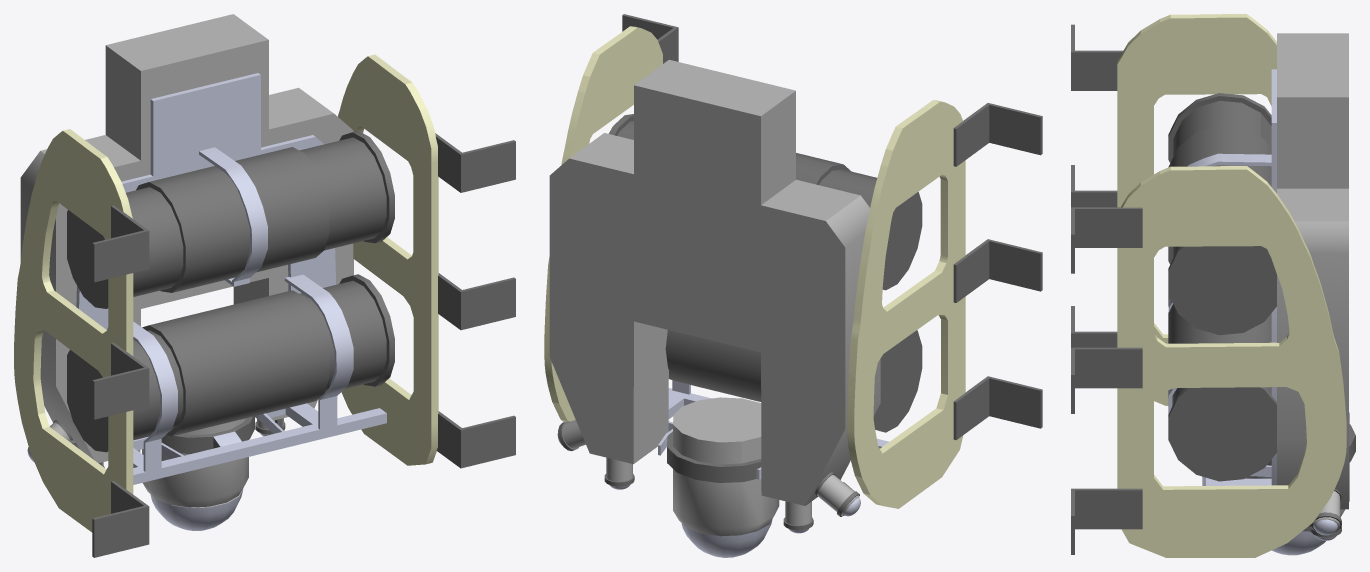
Rendered from BodyMaya.obj.
3 views of the same model, side by side, from view 1: azimuth 30°, elevation 25°; view 2: azimuth 150°, elevation 25°; view 3: azimuth 270°, elevation 25° (orthographic). The views are drawn at different scales.
Visible parts, largest first — view 1: Body:Mesh; view 2: Body:Mesh; view 3: Body:Mesh.
Boxes of the visible parts, left/top/right/bottom form: Body:Mesh: left=14, top=14, right=515, bottom=557; Body:Mesh: left=544, top=14, right=1042, bottom=557; Body:Mesh: left=1071, top=14, right=1355, bottom=557.
Size of the model in its own units: 3.6 by 3.88 by 2.06.
1 material, 1 textured.
